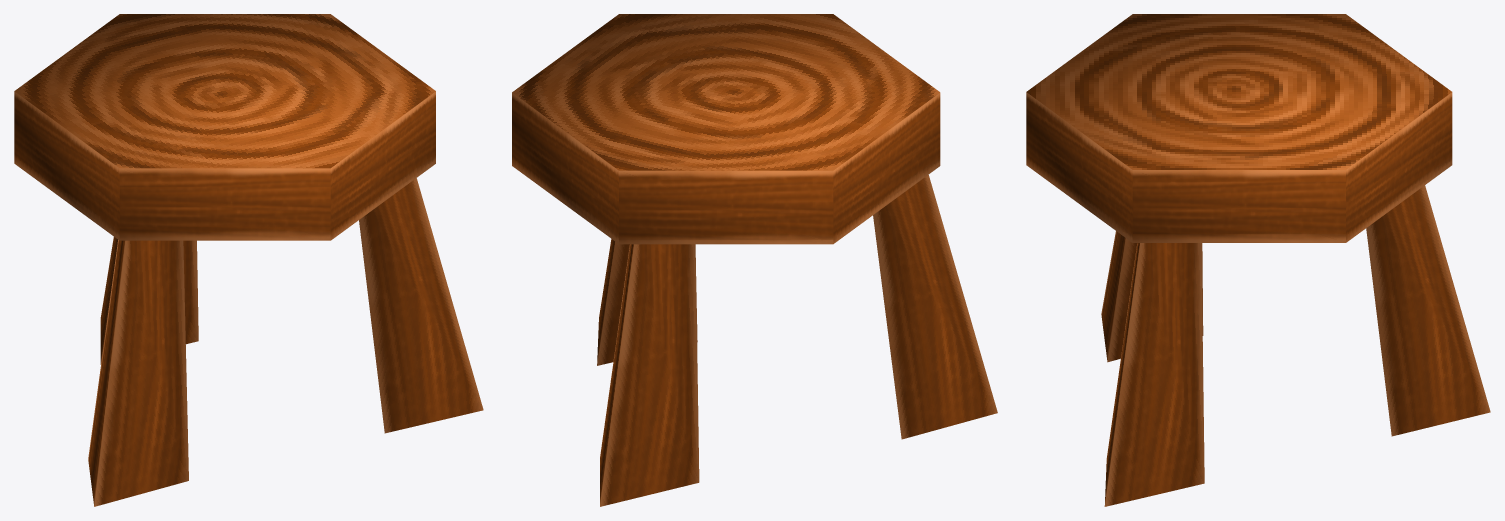
Rendered from Sgabello1.glb.
3 views of the same model, side by side, from view 1: azimuth 30°, elevation 25°; view 2: azimuth 150°, elevation 25°; view 3: azimuth 270°, elevation 25° (orthographic).
Visible parts, largest first — view 1: Sgabello; view 2: Sgabello; view 3: Sgabello.
Part boxes in pixels (<box>): Sgabello: <box>14,14,483,506</box>; Sgabello: <box>512,14,997,506</box>; Sgabello: <box>1026,14,1490,506</box>.
Bounding box in the file's own units: 2.14 × 1.66 × 2.18.
1 material, 1 textured.
